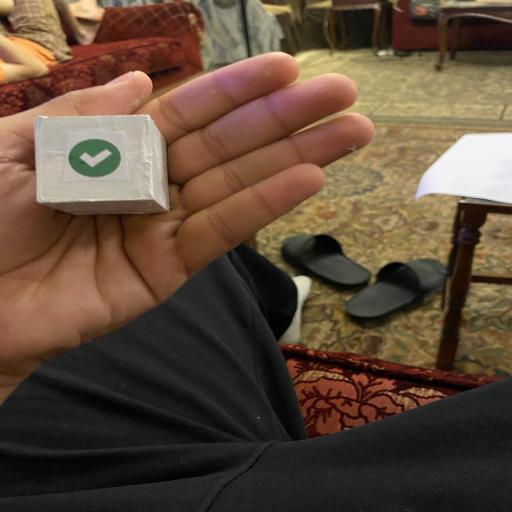Confirm: (33, 112, 173, 215)
